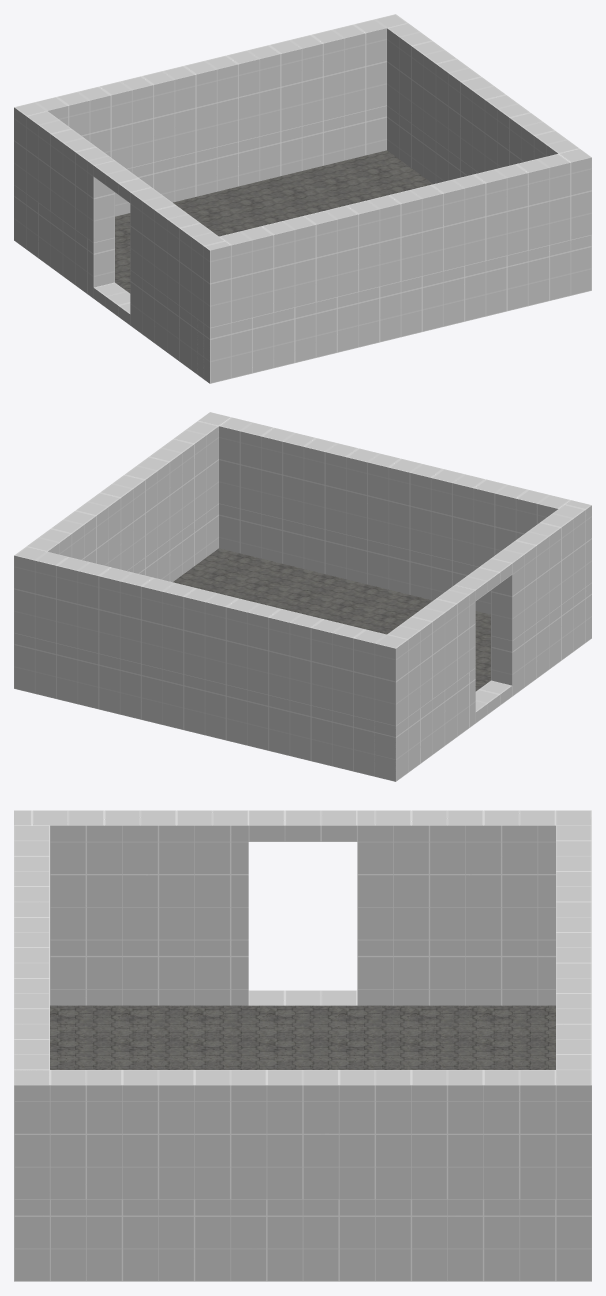
The model's file is EastDoorMRoom.unity_13.obj.
3 renders of one model, top to bottom at view 1: azimuth 30°, elevation 25°; view 2: azimuth 150°, elevation 25°; view 3: azimuth 270°, elevation 25°, orthographic. The views are drawn at different scales.
Parts seen in each view (by area): view 1: UpperWallE, UpperWallW, LowerWallE, UpperWallN, UpperWallS, Floor, LowerWallW, LowerWallN, LowerWallS, DoorwayUpper, FloorDoorway; view 2: UpperWallW, UpperWallE, LowerWallW, UpperWallN, UpperWallS, Floor, LowerWallE, LowerWallN, LowerWallS, DoorwayUpper, FloorDoorway; view 3: UpperWallS, UpperWallN, LowerWallS, Floor, LowerWallN, UpperWallW, UpperWallE, DoorwayUpper, LowerWallW, LowerWallE, FloorDoorway.
Boxes of the visible parts, x1,y1,x2,y2 form: UpperWallE: [219, 148, 590, 322]; UpperWallW: [14, 14, 407, 193]; LowerWallE: [197, 235, 591, 383]; UpperWallN: [26, 111, 231, 328]; UpperWallS: [387, 23, 591, 240]; Floor: [115, 150, 432, 293]; LowerWallW: [115, 106, 386, 216]; LowerWallN: [14, 185, 209, 383]; LowerWallS: [387, 106, 478, 183]; DoorwayUpper: [93, 160, 150, 202]; FloorDoorway: [93, 282, 130, 325]; UpperWallW: [14, 546, 408, 726]; UpperWallE: [200, 412, 570, 567]; LowerWallW: [14, 633, 395, 781]; UpperWallN: [387, 500, 591, 716]; UpperWallS: [26, 412, 230, 570]; Floor: [173, 548, 490, 691]; LowerWallE: [219, 504, 490, 614]; LowerWallN: [374, 583, 591, 781]; LowerWallS: [127, 504, 218, 581]; DoorwayUpper: [455, 558, 512, 600]; FloorDoorway: [475, 680, 512, 723]; UpperWallS: [14, 1070, 555, 1199]; UpperWallN: [14, 810, 555, 940]; LowerWallS: [50, 1199, 555, 1281]; Floor: [50, 1005, 555, 1069]; LowerWallN: [50, 940, 555, 1005]; UpperWallW: [556, 810, 591, 1199]; UpperWallE: [14, 825, 49, 1085]; DoorwayUpper: [248, 810, 357, 841]; LowerWallW: [556, 1199, 591, 1281]; LowerWallE: [14, 1199, 49, 1281]; FloorDoorway: [248, 990, 357, 1005].
Bounding box in the file's own units: 9 × 3.01 × 8.
2 materials, 2 textured.
